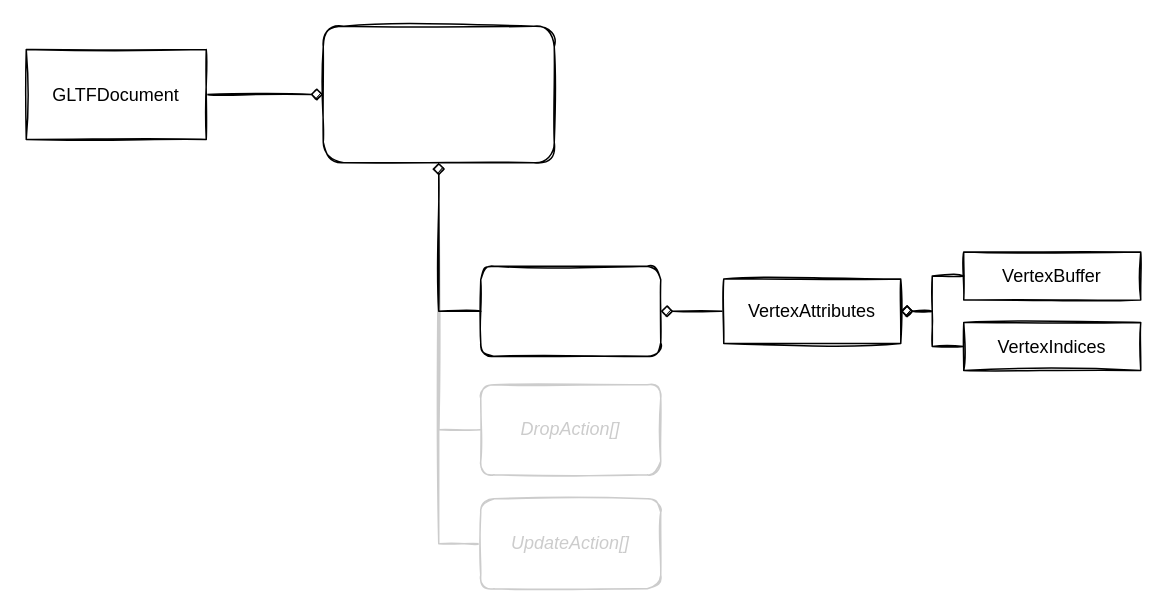
Image size: 1167x615. Some labels were removed from this diagram. Here are the shapes that lost their labels. From the top down, the centre of each, then its label:
At point 438,94: "WriteQueue".
At point 570,310: "AddAction[]".
